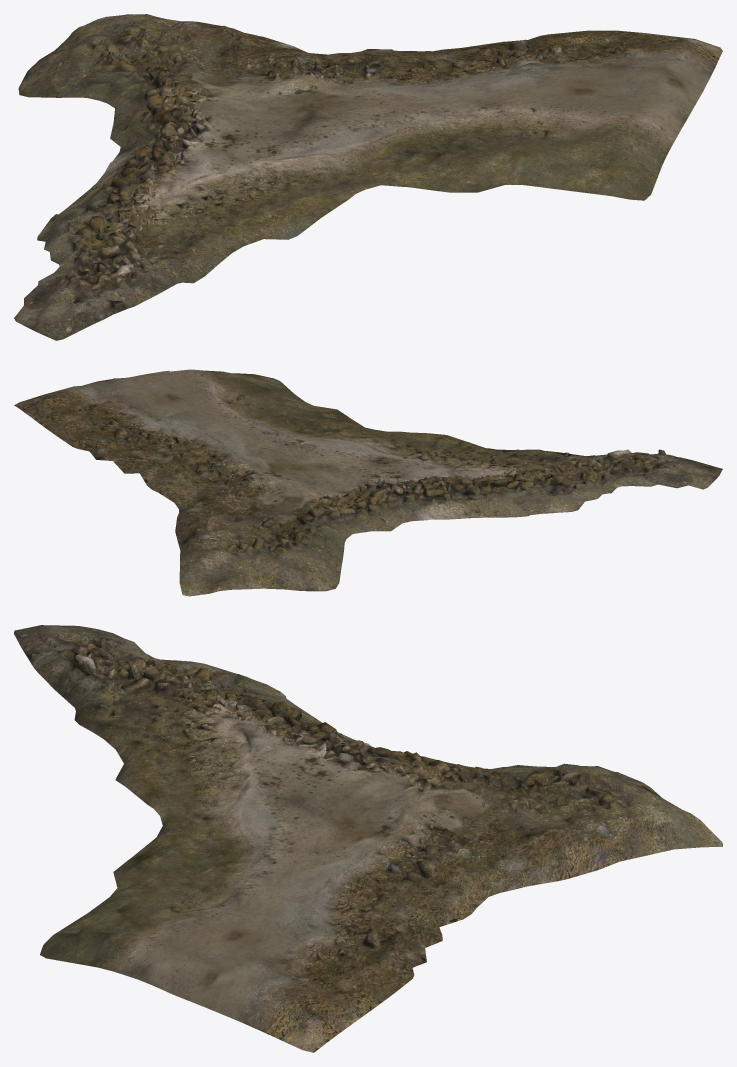
File: coast_rocks_01.glb
3 views of the same model, one above another, from view 1: azimuth 30°, elevation 25°; view 2: azimuth 150°, elevation 25°; view 3: azimuth 270°, elevation 25° (orthographic). The views are drawn at different scales.
Parts seen in each view (by area): view 1: coast_rocks_01; view 2: coast_rocks_01; view 3: coast_rocks_01.
Part boxes in pixels (x1,y1,x2,y2): coast_rocks_01: (14,14,722,340); coast_rocks_01: (14,369,722,596); coast_rocks_01: (14,625,722,1052).
Bounding box in the file's own units: 59.51 × 3.28 × 42.51.
Materials: 1 (1 with a texture image).
